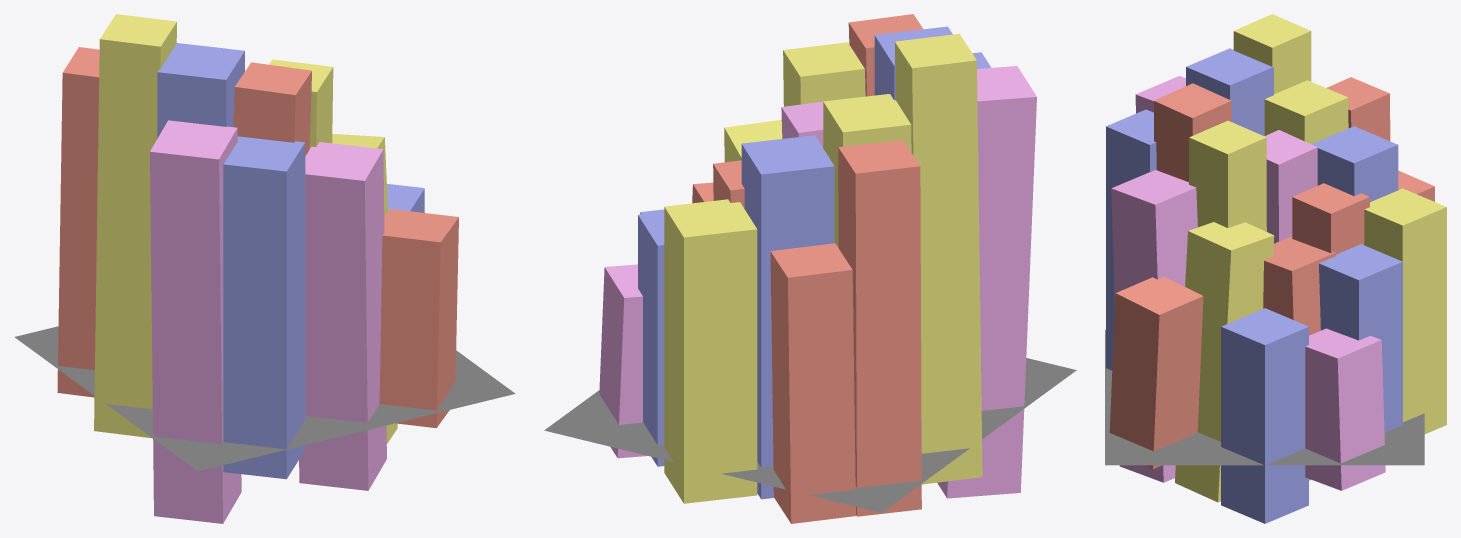
The model's file is building_module_3.glb.
3 views of the same model, side by side, from view 1: azimuth 30°, elevation 25°; view 2: azimuth 150°, elevation 25°; view 3: azimuth 270°, elevation 25° (orthographic). The views are drawn at different scales.
Visible parts, largest first — view 1: bake 3; view 2: bake 3; view 3: bake 3.
Part boxes in pixels (box(x1,y1,x2,y2)): bake 3: box(14, 14, 515, 523); bake 3: box(544, 14, 1076, 523); bake 3: box(1105, 14, 1446, 523).
Bounding box in the file's own units: 2.05 × 2.67 × 2.14.
1 material, 1 textured.
